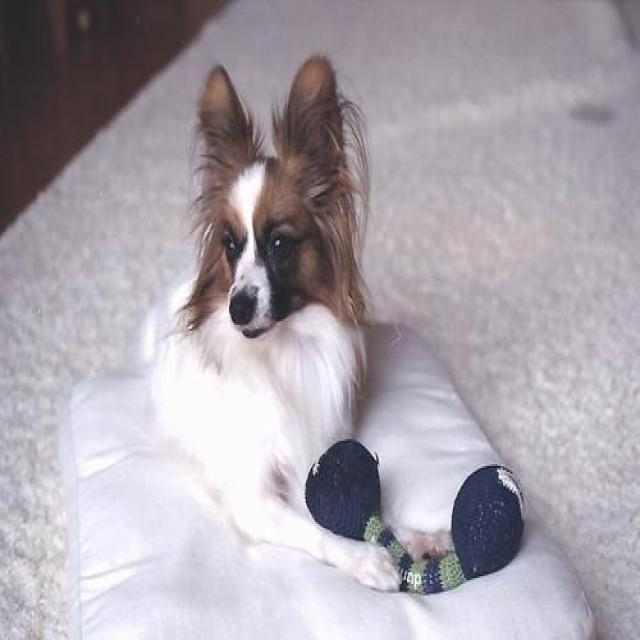papillon: (142, 54, 453, 596)
